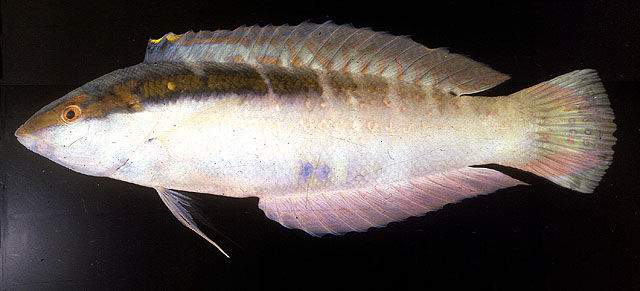fish: (14, 19, 616, 259)
